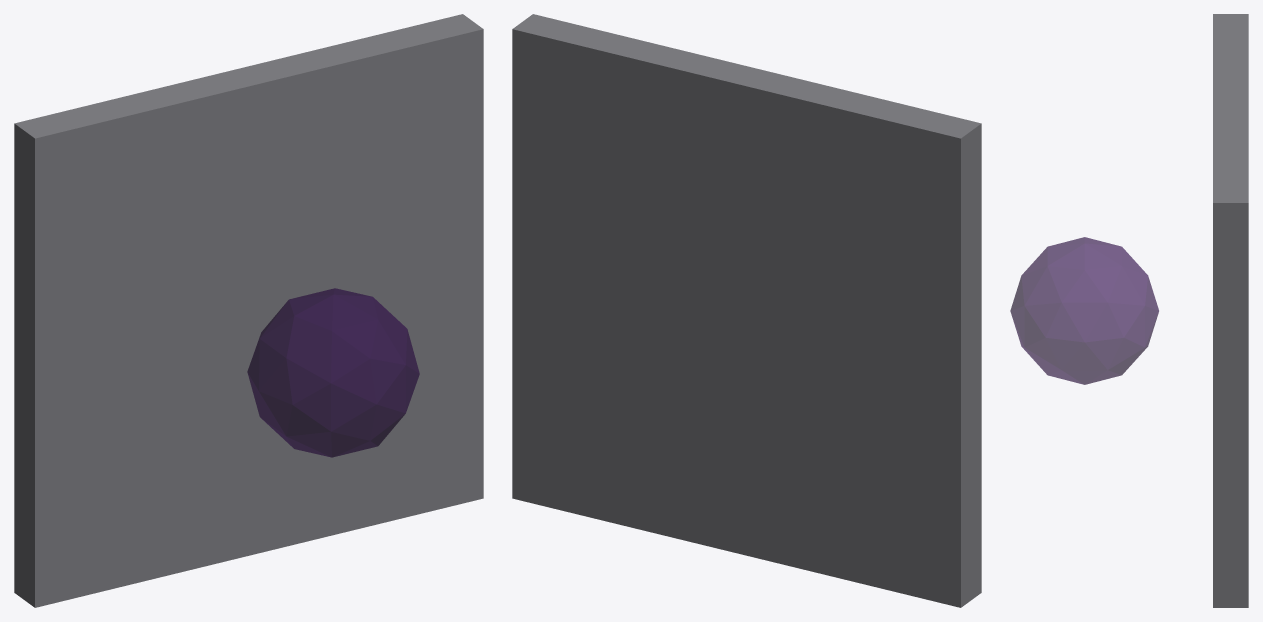
The model's file is 08_pitfall_marker.glb.
3 renders of one model, left to right at view 1: azimuth 30°, elevation 25°; view 2: azimuth 150°, elevation 25°; view 3: azimuth 270°, elevation 25°, orthographic. The views are drawn at different scales.
Parts seen in each view (by area): view 1: trap_base, hazard_core; view 2: trap_base; view 3: trap_base, hazard_core.
Boxes of the visible parts, x1,y1,x2,y2 form: trap_base: (14,14,483,607); hazard_core: (247,288,419,457); trap_base: (512,14,981,607); trap_base: (1213,14,1248,607); hazard_core: (1010,237,1158,384).
Bounding box in the file's own units: 1.5 × 1.5 × 0.8.
